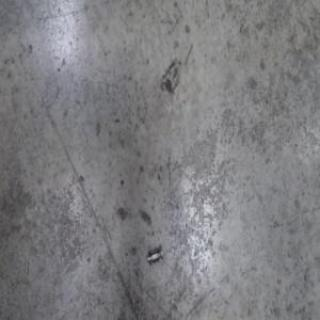Bolttrack_idkeyframe: (146, 245, 163, 267)
